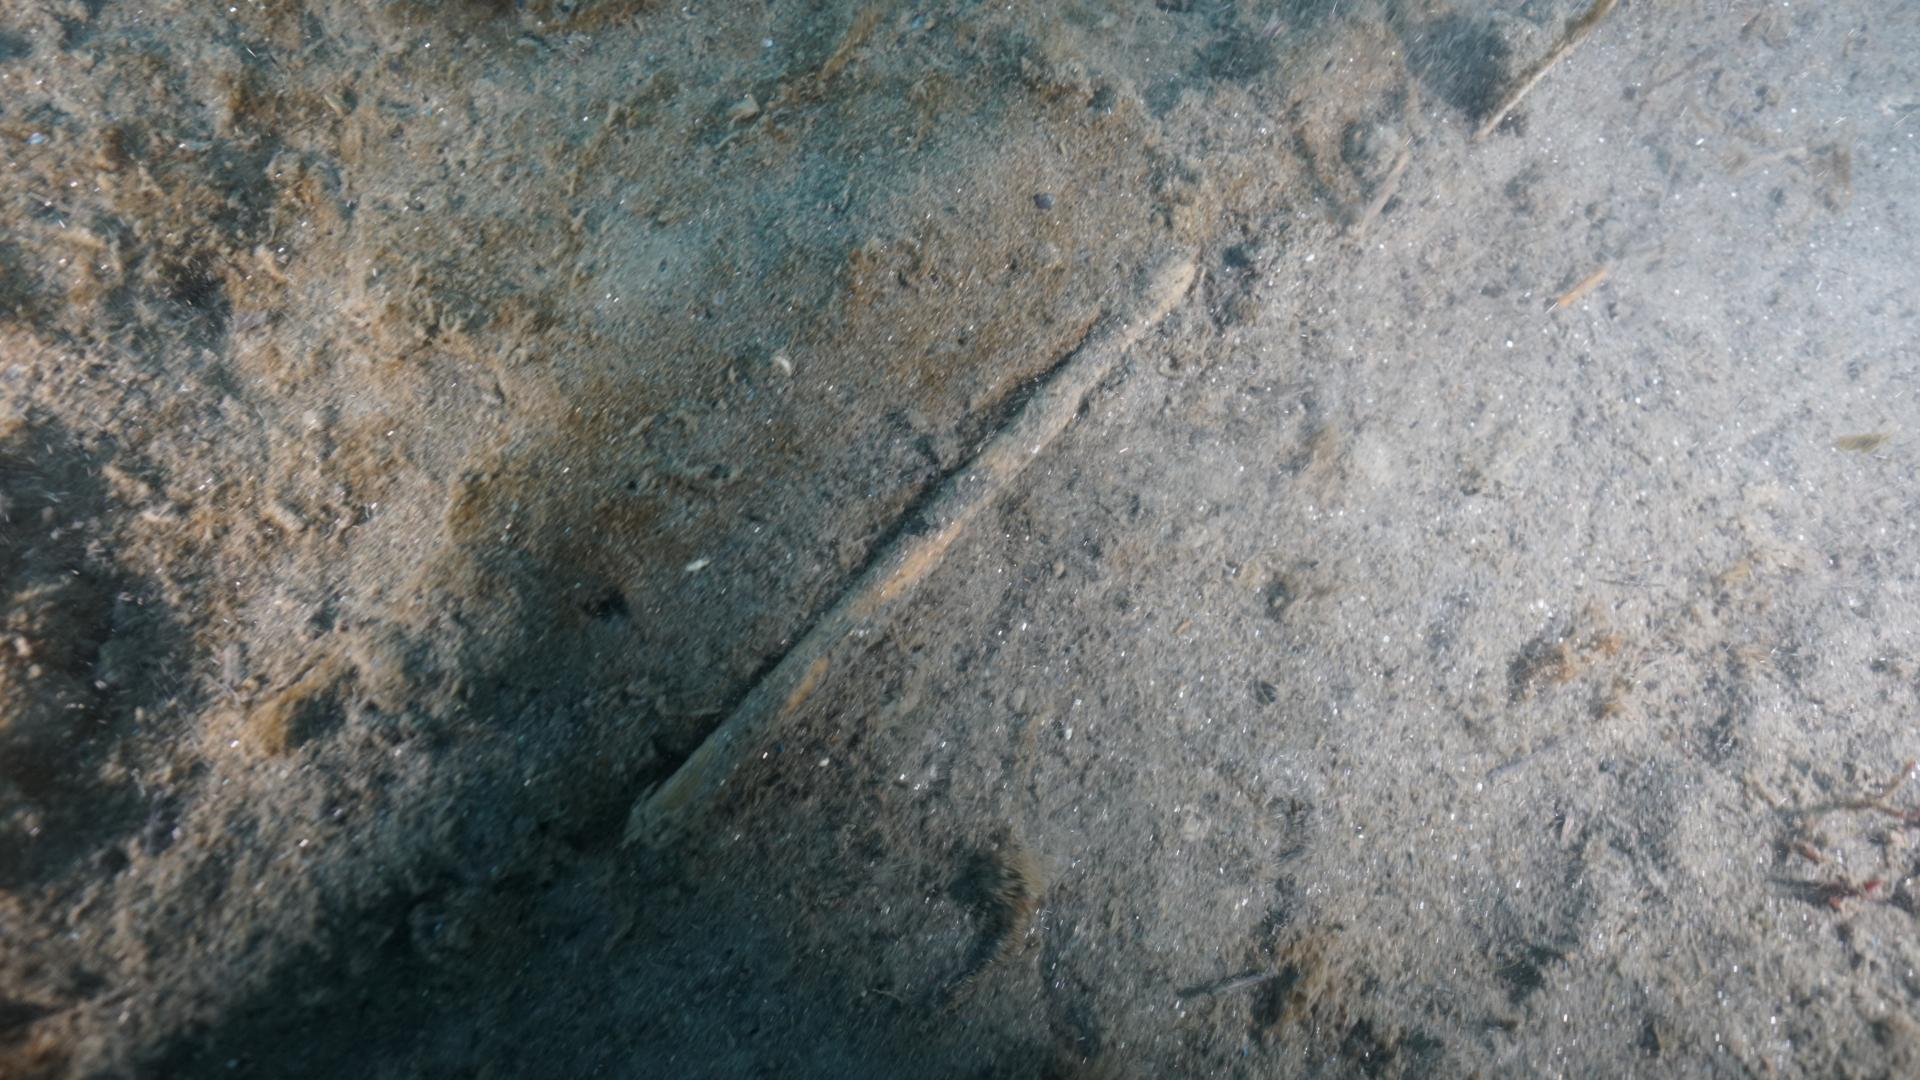wood: (626, 251, 1197, 844)
